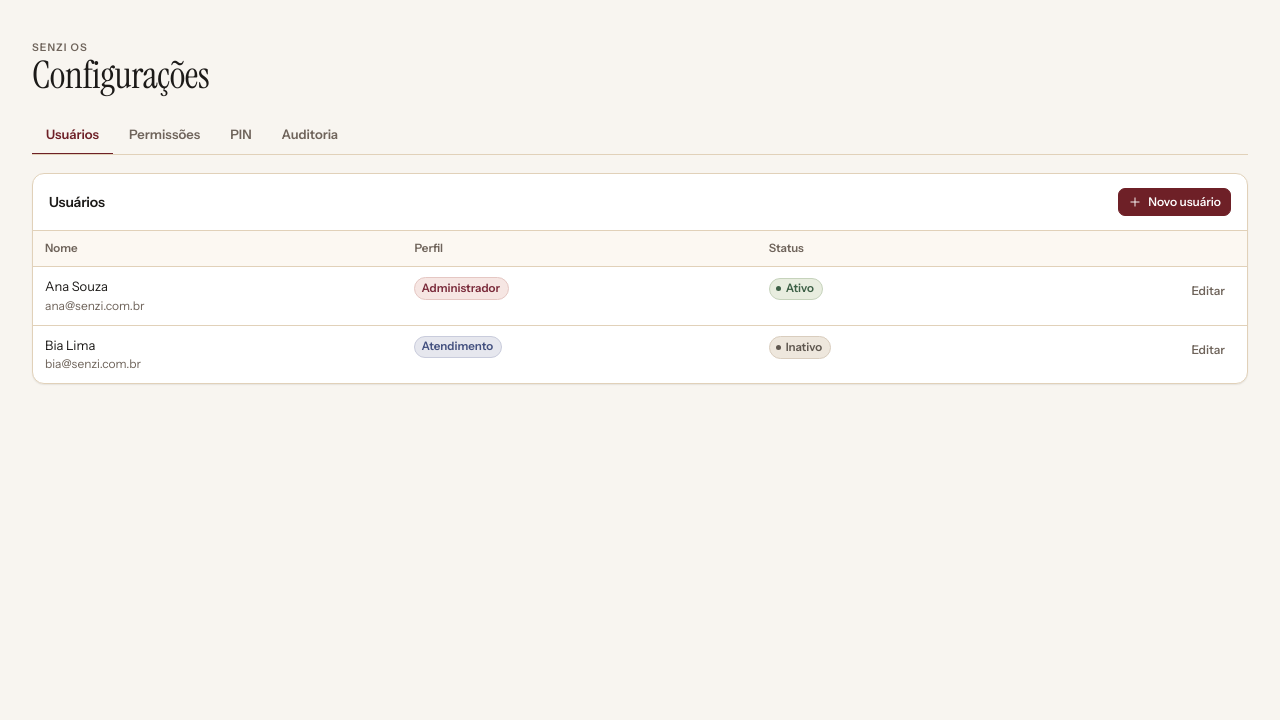
Usuários › ULTIMO_ADMIN exibe a mensagem de último administrador
The width and height of the screenshot is (1280, 720).
Click the button with aria-label "Editar Ana Souza": point(1208, 291) x1=1181 y1=277 x2=1235 y2=305
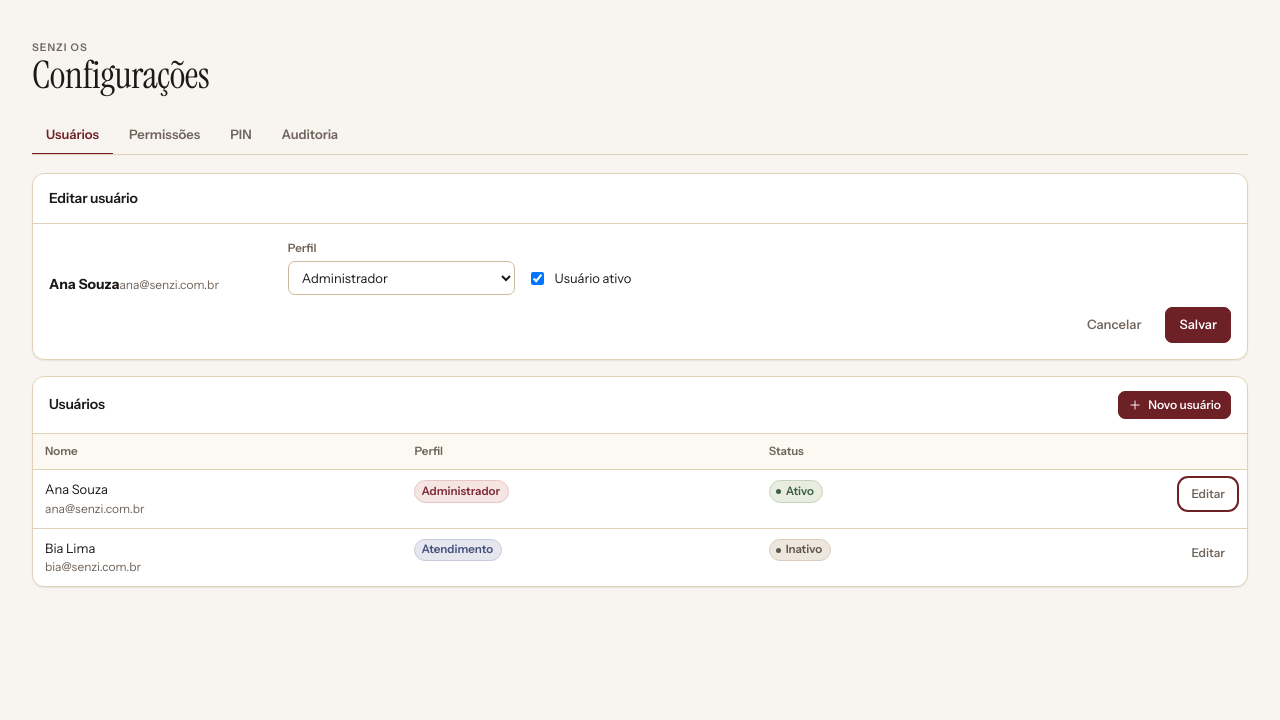
Select "Atendimento" in the dropdown labelled "Perfil": point(401, 278) x1=288 y1=261 x2=515 y2=295
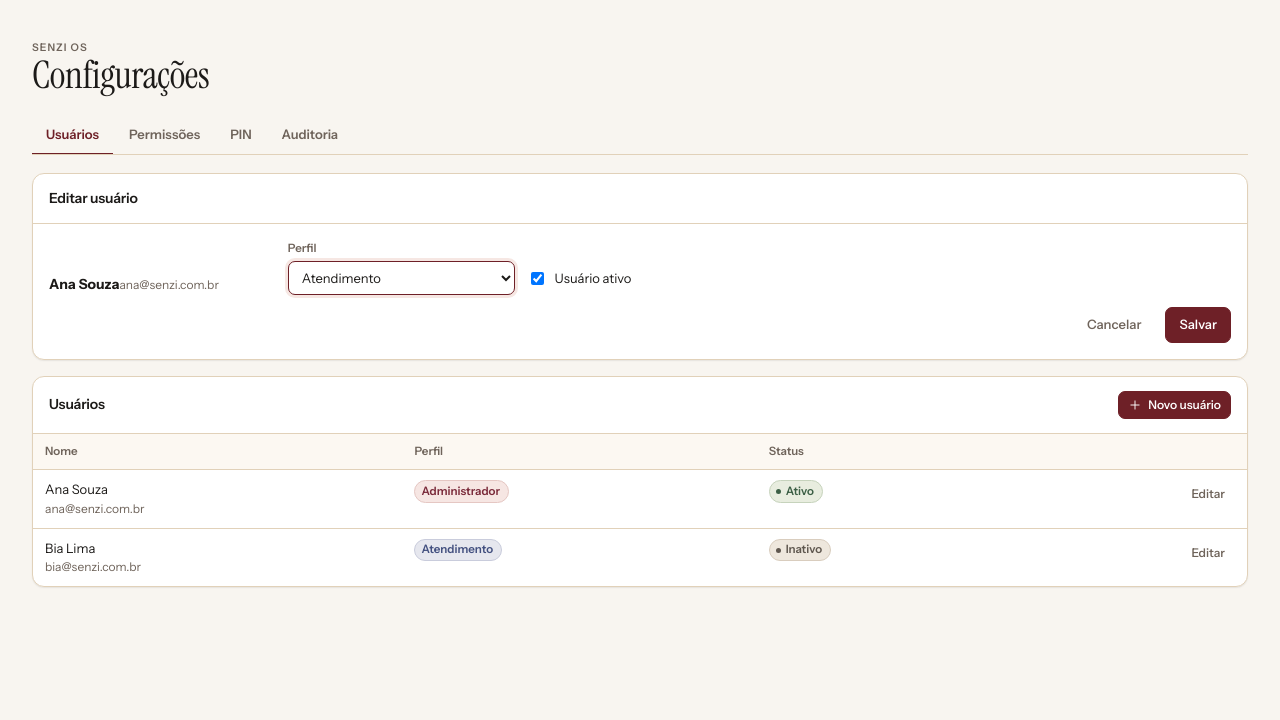
Click the button "Salvar": point(1198, 325) x1=1166 y1=307 x2=1231 y2=343
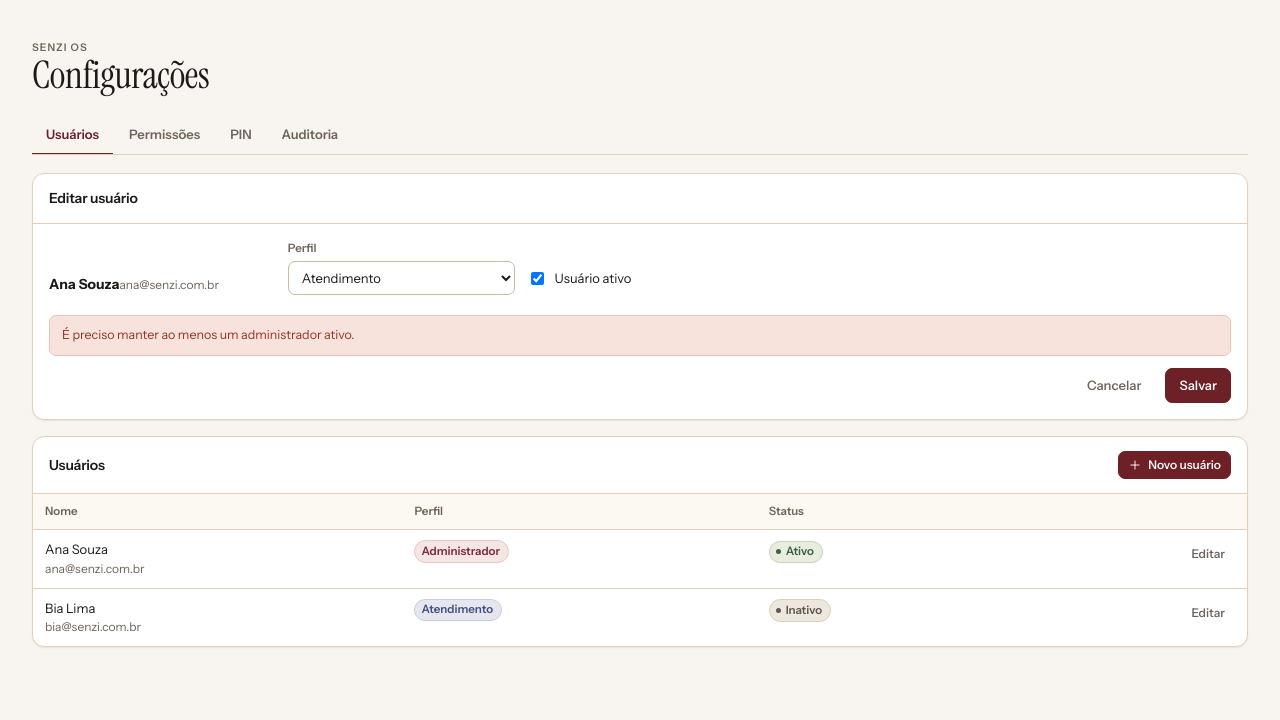
Now the text "É preciso manter ao menos um administrador ativo." is shown, box x1=49 y1=315 x2=1231 y2=356
